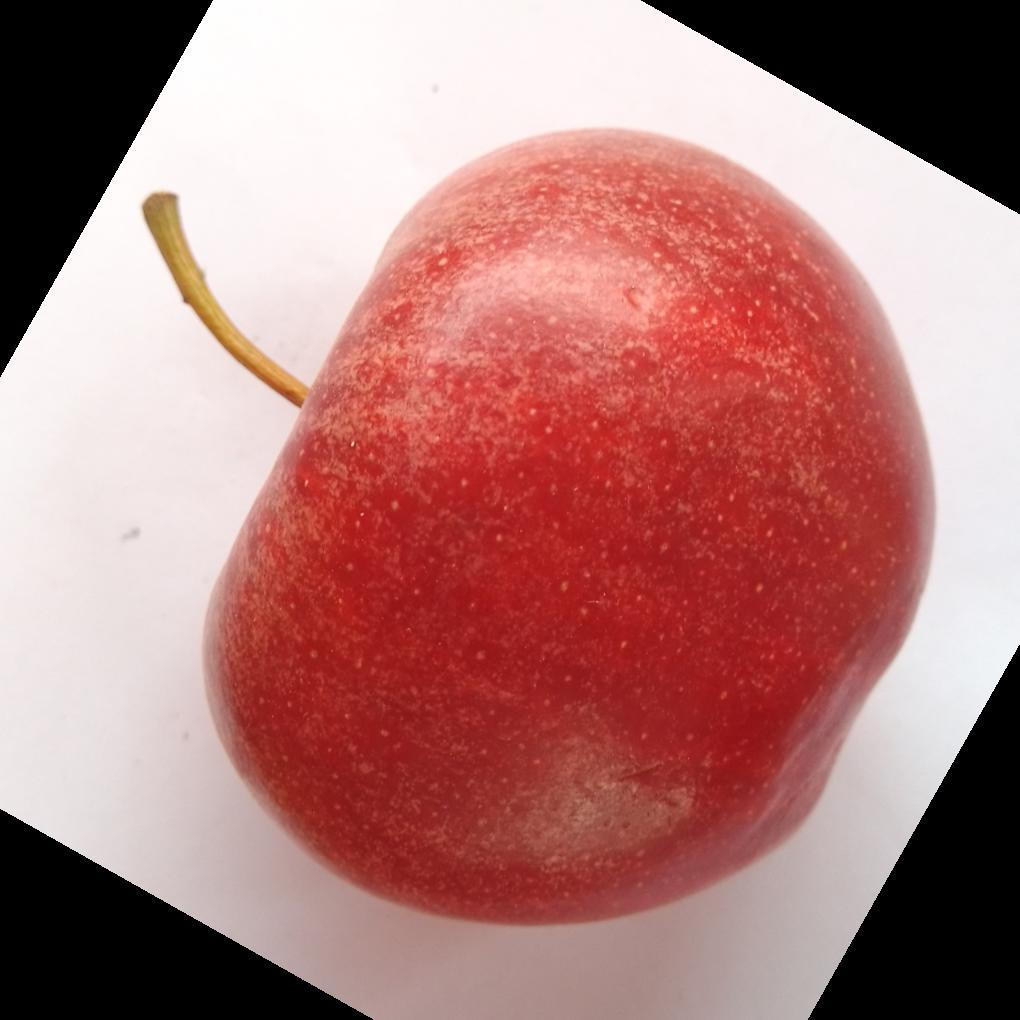FreshGuava: (198, 128, 936, 932)
